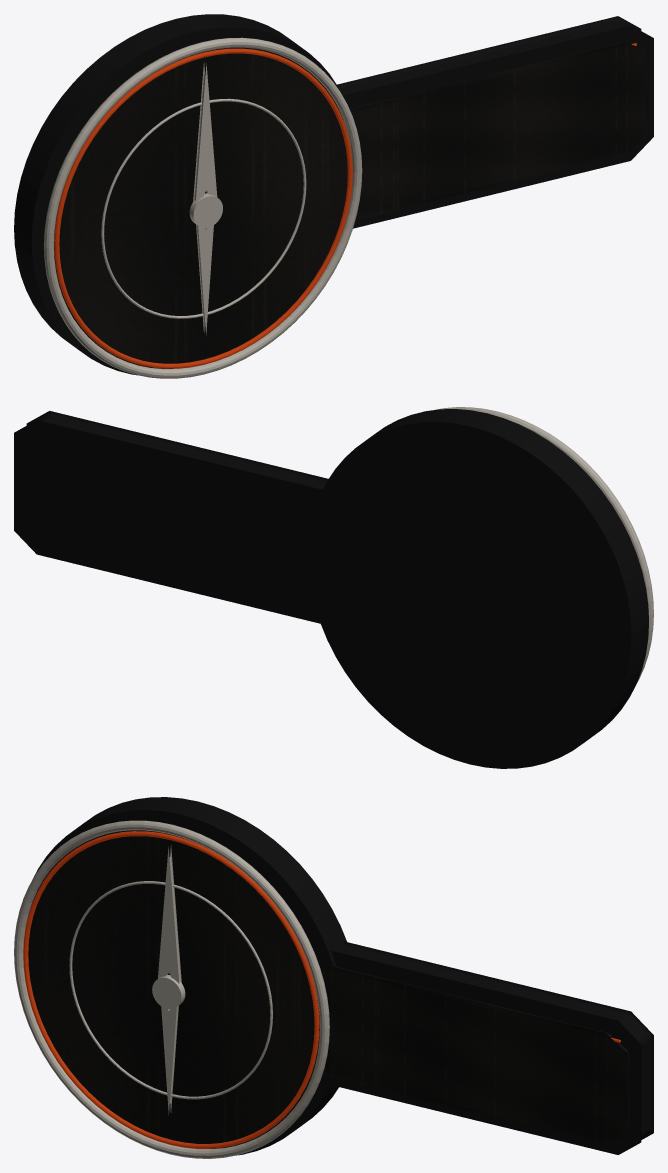
File: chevy-navigation.glb
3 renders of one model, top to bottom at view 1: azimuth 30°, elevation 25°; view 2: azimuth 150°, elevation 25°; view 3: azimuth 330°, elevation 25°, orthographic.
Parts seen in each view (by area): view 1: Compass_Face, Navigation_BarFace, Compass_Back, Navigation_BarBack, Compass_SteelRing, Compass_OrangeRing, Compass_InnerRing, CompassNeedle_North, CompassNeedle_South, Compass_Hub; view 2: Compass_Back, Navigation_BarBack, Compass_SteelRing; view 3: Compass_Face, Navigation_BarFace, Navigation_BarBack, Compass_Back, Compass_SteelRing, Compass_OrangeRing, Compass_InnerRing, CompassNeedle_North, CompassNeedle_South, Compass_Hub.
Part boxes in pixels (x1=…): Compass_Face: x1=54, y1=47, x2=347, y2=363; Navigation_BarFace: x1=340, y1=42, x2=648, y2=220; Compass_Back: x1=14, y1=14, x2=341, y2=375; Navigation_BarBack: x1=337, y1=16, x2=653, y2=228; Compass_SteelRing: x1=44, y1=37, x2=362, y2=378; Compass_OrangeRing: x1=54, y1=48, x2=352, y2=368; Compass_InnerRing: x1=101, y1=98, x2=306, y2=318; CompassNeedle_North: x1=193, y1=62, x2=217, y2=202; CompassNeedle_South: x1=196, y1=224, x2=213, y2=335; Compass_Hub: x1=189, y1=193, x2=222, y2=227; Compass_Back: x1=308, y1=409, x2=648, y2=768; Navigation_BarBack: x1=14, y1=411, x2=328, y2=623; Compass_SteelRing: x1=435, y1=407, x2=653, y2=682; Compass_Face: x1=28, y1=830, x2=319, y2=1143; Navigation_BarFace: x1=318, y1=963, x2=628, y2=1144; Navigation_BarBack: x1=331, y1=941, x2=653, y2=1154; Compass_Back: x1=31, y1=797, x2=346, y2=1155; Compass_SteelRing: x1=14, y1=820, x2=329, y2=1158; Compass_OrangeRing: x1=23, y1=831, x2=319, y2=1148; Compass_InnerRing: x1=69, y1=881, x2=272, y2=1099; CompassNeedle_North: x1=158, y1=845, x2=181, y2=983; CompassNeedle_South: x1=161, y1=1006, x2=178, y2=1115; Compass_Hub: x1=152, y1=975, x2=185, y2=1009.
Bounding box in the file's own units: 5.07 × 2.64 × 0.4425.
Materials: 4 (1 with a texture image).
